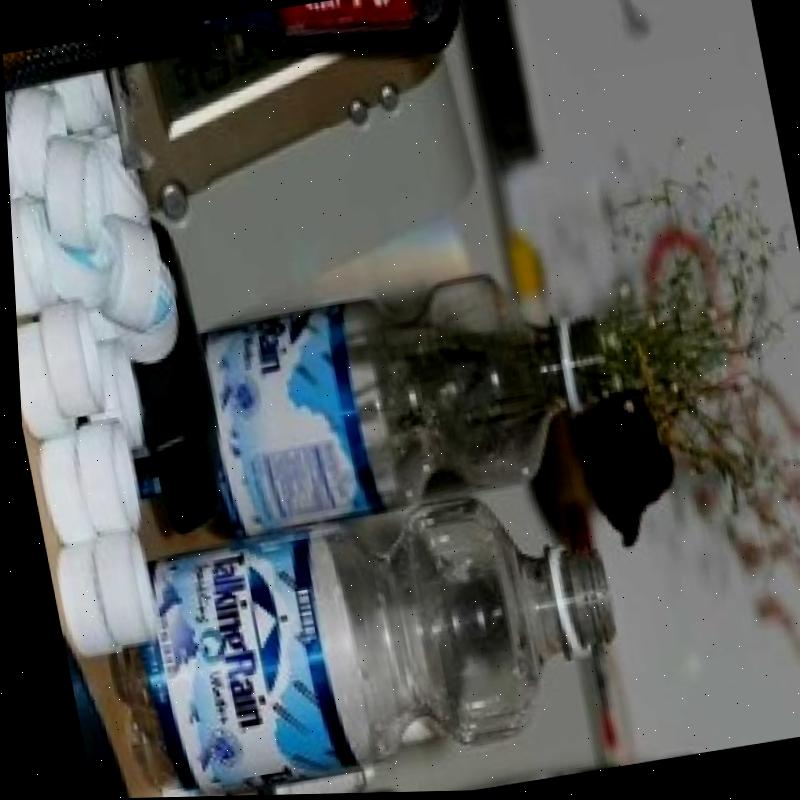botella: (82, 475, 631, 799), (90, 258, 625, 545)
